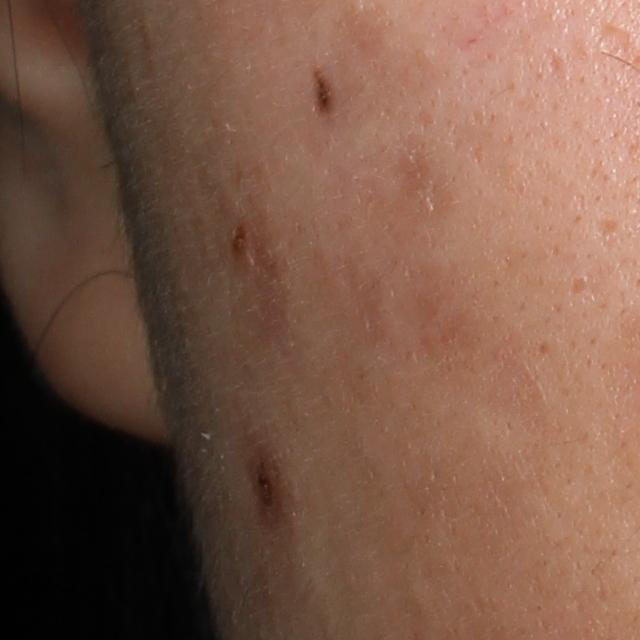atrophic_scar: (600, 24, 634, 58), (594, 216, 619, 241)
nevus: (312, 66, 338, 119)
